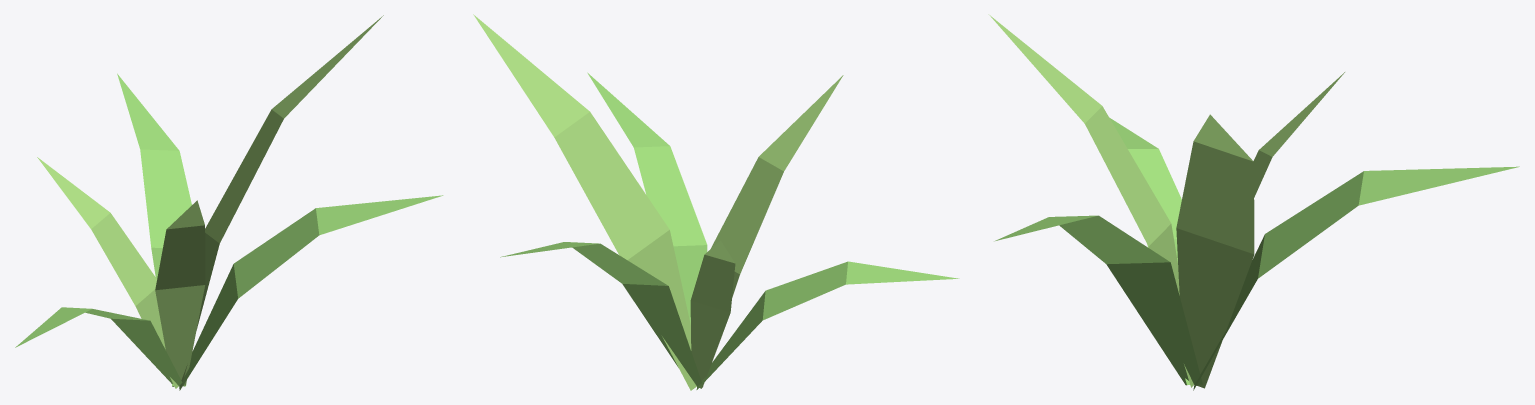
Rendered from Plant_e_OneS_06.fbx.
3 views of the same model, side by side, from view 1: azimuth 30°, elevation 25°; view 2: azimuth 150°, elevation 25°; view 3: azimuth 270°, elevation 25° (orthographic). The views are drawn at different scales.
Visible parts, largest first — view 1: Plant_e_OneS_06; view 2: Plant_e_OneS_06; view 3: Plant_e_OneS_06.
Part boxes in pixels (<box>): Plant_e_OneS_06: <box>15,15,443,390</box>; Plant_e_OneS_06: <box>473,14,959,390</box>; Plant_e_OneS_06: <box>988,14,1519,390</box>.
Bounding box in the file's own units: 0.749 × 0.538 × 0.6407.
